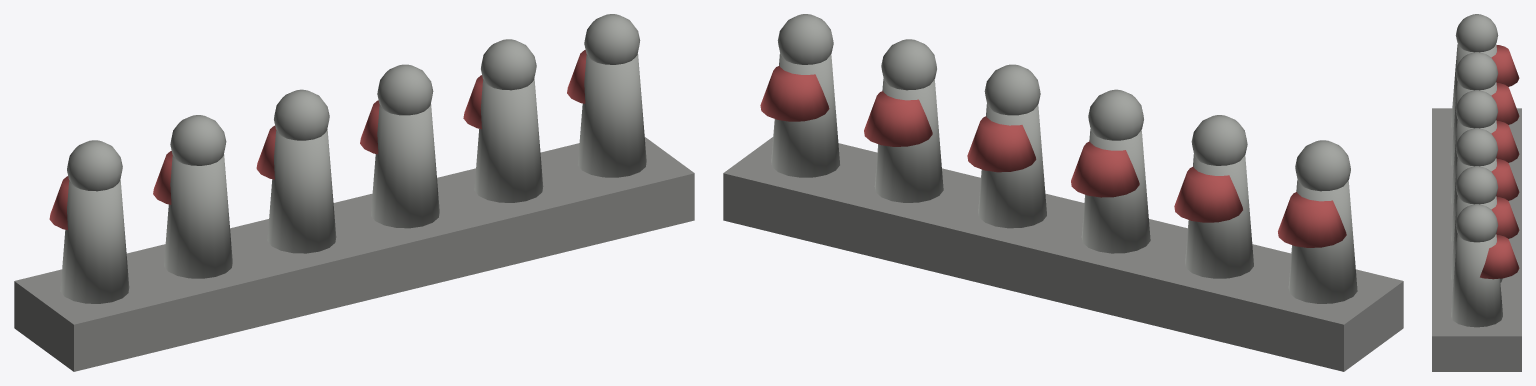
File: prop_roku_jizo.glb
The picture shows the model from 3 angles, left to right: view 1: azimuth 30°, elevation 25°; view 2: azimuth 150°, elevation 25°; view 3: azimuth 270°, elevation 25°; orthographic projection. The views are drawn at different scales.
Parts seen in each view (by area): view 1: roku_jizo; view 2: roku_jizo; view 3: roku_jizo.
Boxes of the visible parts, x1,y1,x2,y2 form: roku_jizo: (14, 14, 694, 371); roku_jizo: (723, 14, 1403, 371); roku_jizo: (1432, 14, 1521, 371).
Size of the model in its own units: 3.3 by 0.99 by 0.55.
